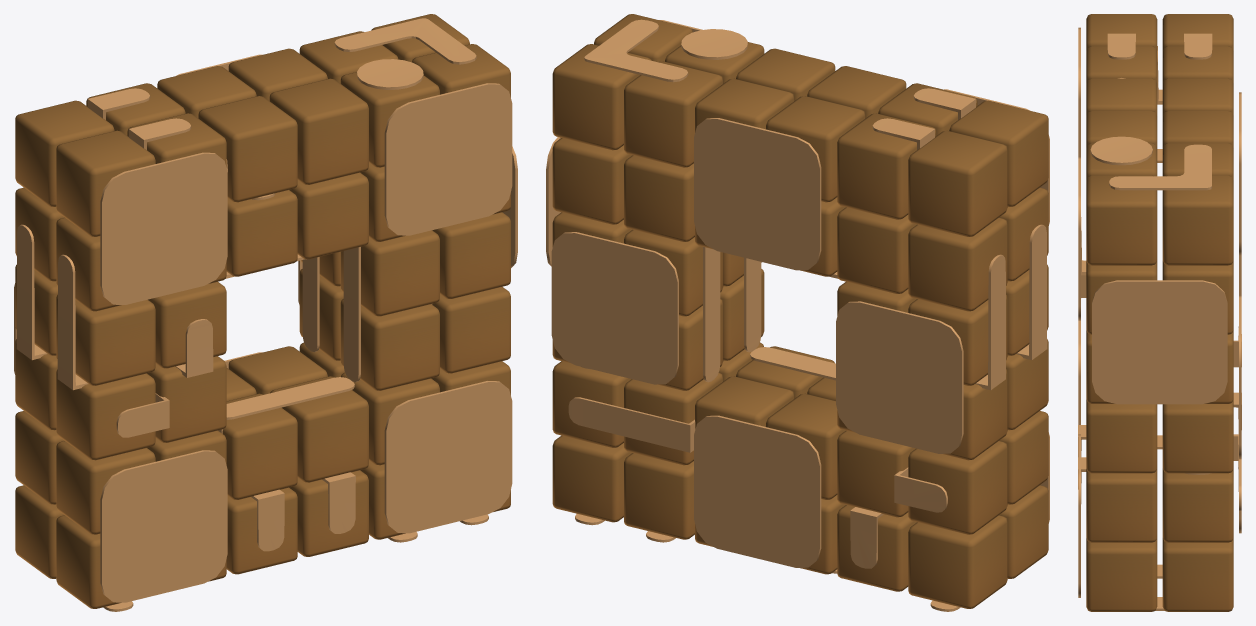
File: level_135.fbx
3 views of the same model, side by side, from view 1: azimuth 30°, elevation 25°; view 2: azimuth 150°, elevation 25°; view 3: azimuth 270°, elevation 25° (orthographic). The views are drawn at different scales.
Visible parts, largest first — view 1: Link_5, Link_7, Link_1, Link_3, Cube_L1_15.028, Cube_L1_15.027, Cube_L1_15.011, Cube_L1_15.059, Cube_L1_15.048, Cube_L1_15.056, Cube_L1_15.015, Cube_L1_15.047 (+47 smaller); view 2: Link_4, Link, Link_2, Link_6, Cube_L1_15.063, Cube_L1_15.037, Cube_L1_15.055, Cube_L1_15.030, Cube_L1_15.051, Cube_L1_15.034, Cube_L1_15.033, Cube_L1_15.002 (+46 smaller); view 3: Link_36, Cube_L1_15.032, Cube_L1_15.033, Cube_L1_15.010, Cube_L1_15.002, Cube_L1_15.008, Cube_L1_15.006, Cube_L1_15.012, Cube_L1_15.004, Cube_L1_15.026, Cube_L1_15.027, Link_35 (+22 smaller).
Boxes of the visible parts, x1=… form: Link_5: x1=384, y1=83, x2=512, y2=235; Link_7: x1=384, y1=381, x2=512, y2=533; Link_1: x1=100, y1=450, x2=227, y2=602; Link_3: x1=100, y1=152, x2=227, y2=304; Cube_L1_15.028: x1=269, y1=78, x2=368, y2=184; Cube_L1_15.027: x1=198, y1=96, x2=297, y2=202; Cube_L1_15.011: x1=340, y1=299, x2=439, y2=390; Cube_L1_15.059: x1=56, y1=294, x2=155, y2=385; Cube_L1_15.048: x1=270, y1=376, x2=368, y2=482; Cube_L1_15.056: x1=56, y1=369, x2=155, y2=460; Cube_L1_15.015: x1=340, y1=230, x2=439, y2=316; Cube_L1_15.047: x1=222, y1=393, x2=297, y2=499; Link_4: x1=551, y1=232, x2=678, y2=384; Link: x1=836, y1=301, x2=963, y2=453; Link_2: x1=694, y1=118, x2=821, y2=270; Link_6: x1=694, y1=415, x2=821, y2=567; Cube_L1_15.063: x1=908, y1=130, x2=1007, y2=236; Cube_L1_15.037: x1=908, y1=515, x2=1007, y2=608; Cube_L1_15.055: x1=908, y1=217, x2=1007, y2=311; Cube_L1_15.030: x1=624, y1=61, x2=723, y2=167; Cube_L1_15.051: x1=908, y1=441, x2=1007, y2=534; Cube_L1_15.034: x1=837, y1=113, x2=936, y2=219; Cube_L1_15.033: x1=552, y1=44, x2=651, y2=150; Cube_L1_15.002: x1=552, y1=435, x2=631, y2=522; Link_36: x1=1092, y1=280, x2=1227, y2=404; Cube_L1_15.032: x1=1086, y1=175, x2=1157, y2=265; Cube_L1_15.033: x1=1162, y1=175, x2=1233, y2=265; Cube_L1_15.010: x1=1086, y1=468, x2=1157, y2=542; Cube_L1_15.002: x1=1162, y1=538, x2=1233, y2=611; Cube_L1_15.008: x1=1086, y1=538, x2=1157, y2=611; Cube_L1_15.006: x1=1162, y1=399, x2=1233, y2=473; Cube_L1_15.012: x1=1086, y1=399, x2=1157, y2=473; Cube_L1_15.004: x1=1162, y1=468, x2=1233, y2=542; Cube_L1_15.026: x1=1162, y1=78, x2=1233, y2=115; Cube_L1_15.027: x1=1086, y1=78, x2=1157, y2=115; Link_35: x1=1109, y1=144, x2=1211, y2=190.
Size of the model in its own units: 13.35 by 13.3 by 4.66.
